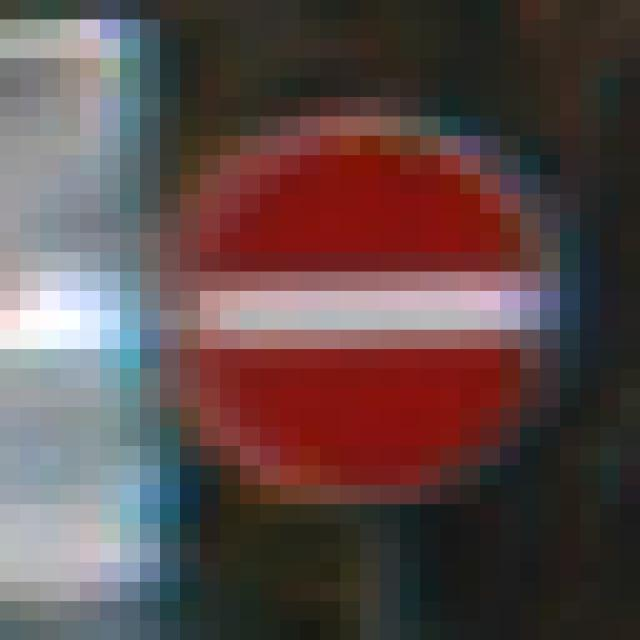No Entry: (121, 98, 521, 525)
